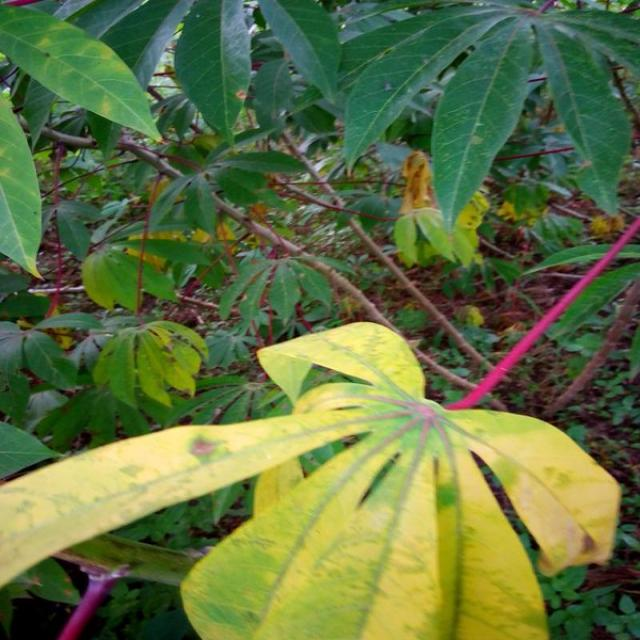cassava leaf: (1, 319, 622, 638), (2, 2, 165, 145)
